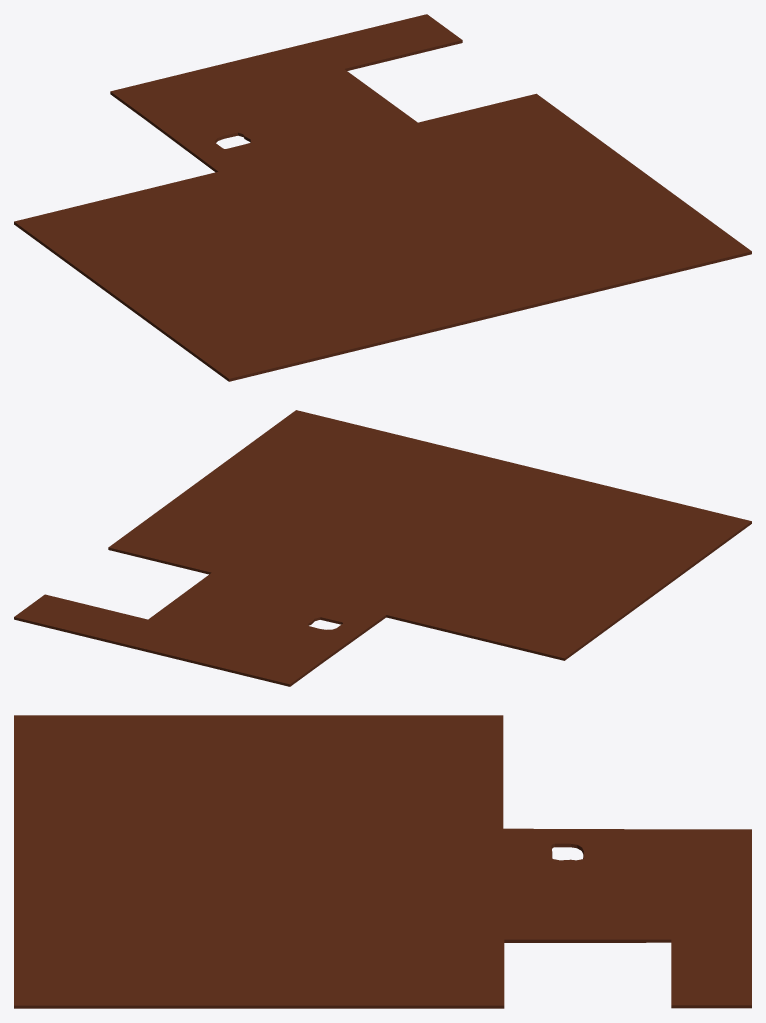
Rendered from chao_level1.fbx.
3 views of the same model, one above another, from view 1: azimuth 30°, elevation 25°; view 2: azimuth 150°, elevation 25°; view 3: azimuth 270°, elevation 25° (orthographic). The views are drawn at different scales.
Visible parts, largest first — view 1: chao; view 2: chao; view 3: chao.
Boxes of the visible parts, x1=… form: chao: x1=14, y1=14, x2=751, y2=381; chao: x1=14, y1=410, x2=751, y2=686; chao: x1=14, y1=715, x2=751, y2=1008.
Size of the model in its own units: 4273 by 22.62 by 4590.
